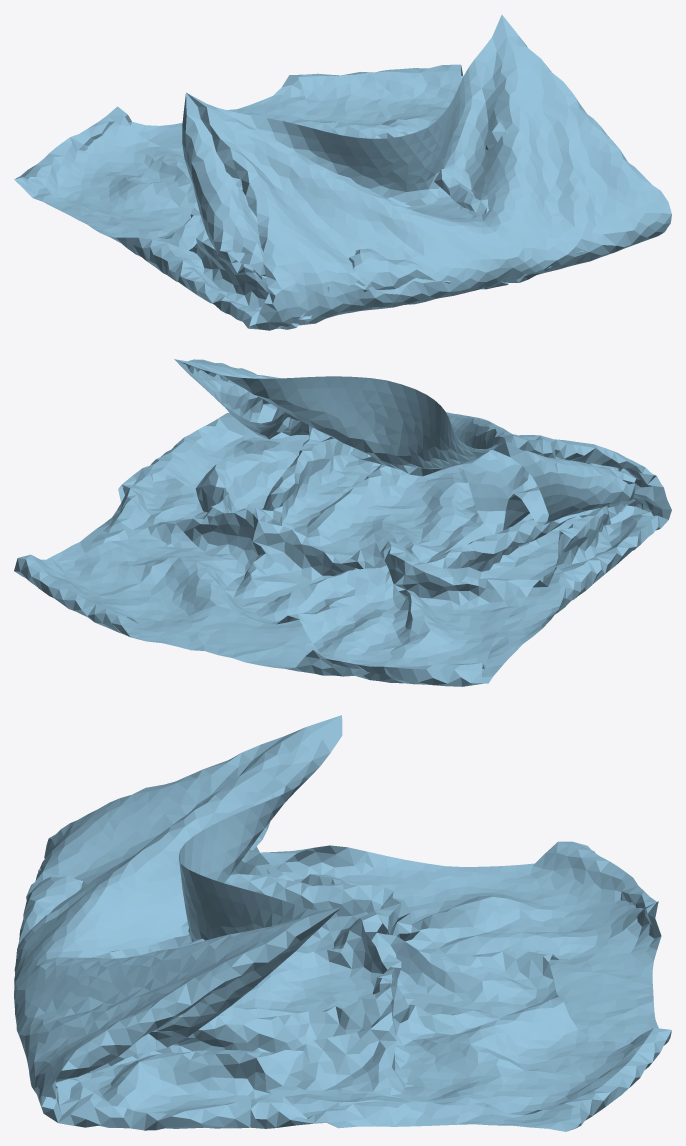
File: frame_13.glb
3 views of the same model, one above another, from view 1: azimuth 30°, elevation 25°; view 2: azimuth 150°, elevation 25°; view 3: azimuth 270°, elevation 25° (orthographic). The views are drawn at different scales.
Parts seen in each view (by area): view 1: frame_13.obj; view 2: frame_13.obj; view 3: frame_13.obj.
Part boxes in pixels (x1=…): frame_13.obj: x1=14, y1=14, x2=671, y2=330; frame_13.obj: x1=14, y1=359, x2=671, y2=686; frame_13.obj: x1=14, y1=715, x2=671, y2=1131.
Bounding box in the file's own units: 1.24 × 0.415 × 1.25.
